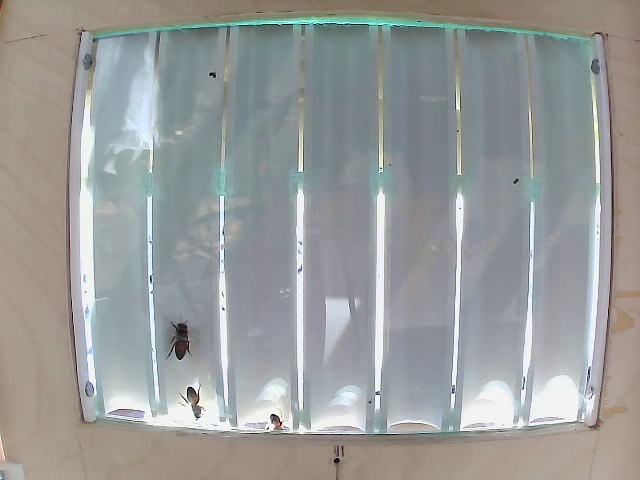bee: (160, 309, 203, 351), (173, 381, 207, 413)
